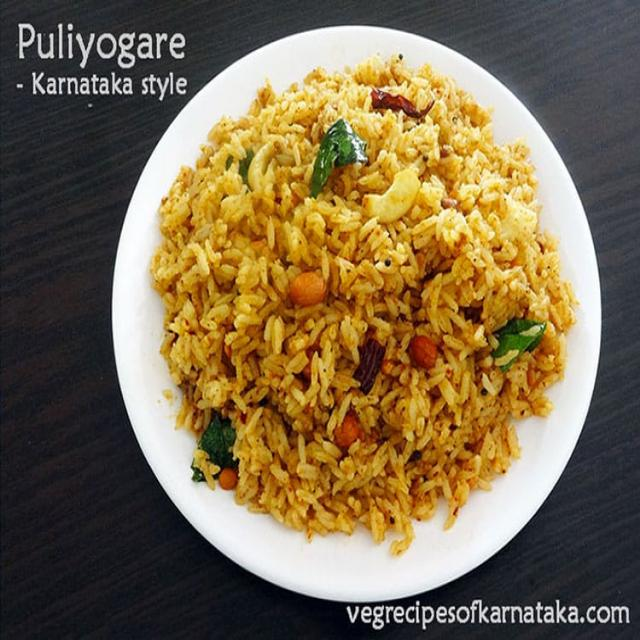puliyogare: (137, 46, 588, 551)
